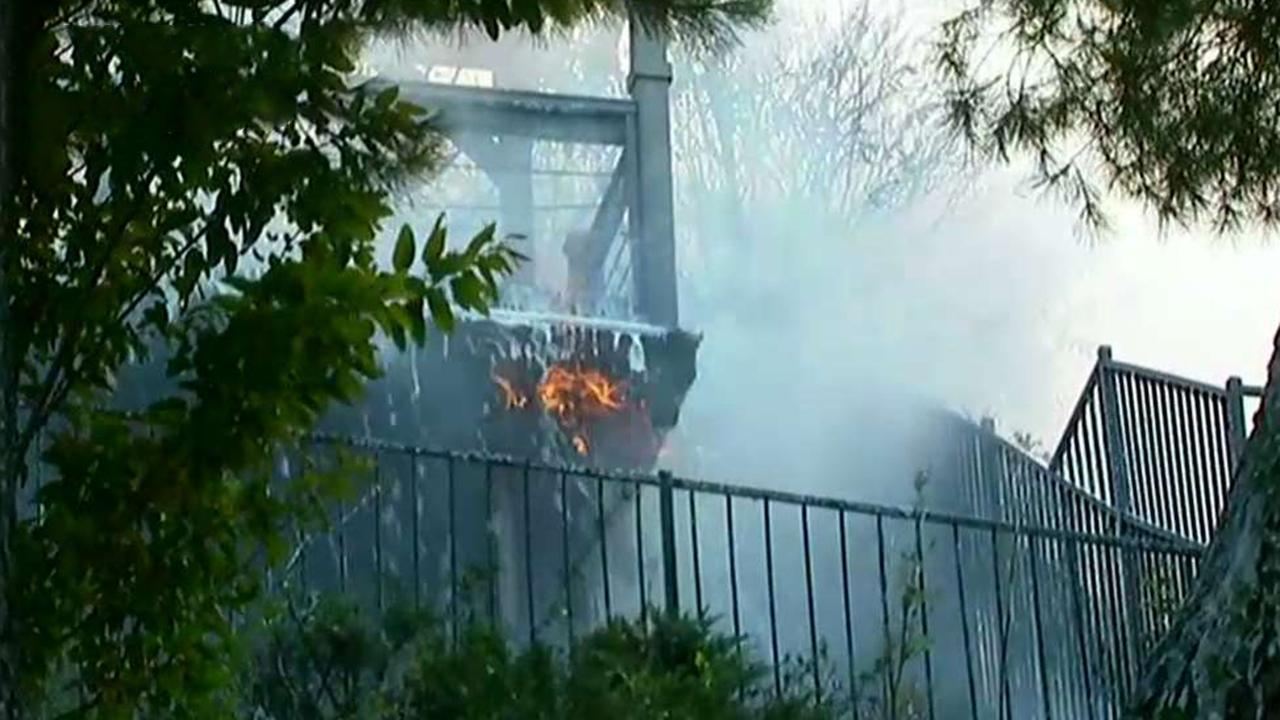Fire: (517, 347, 674, 415)
